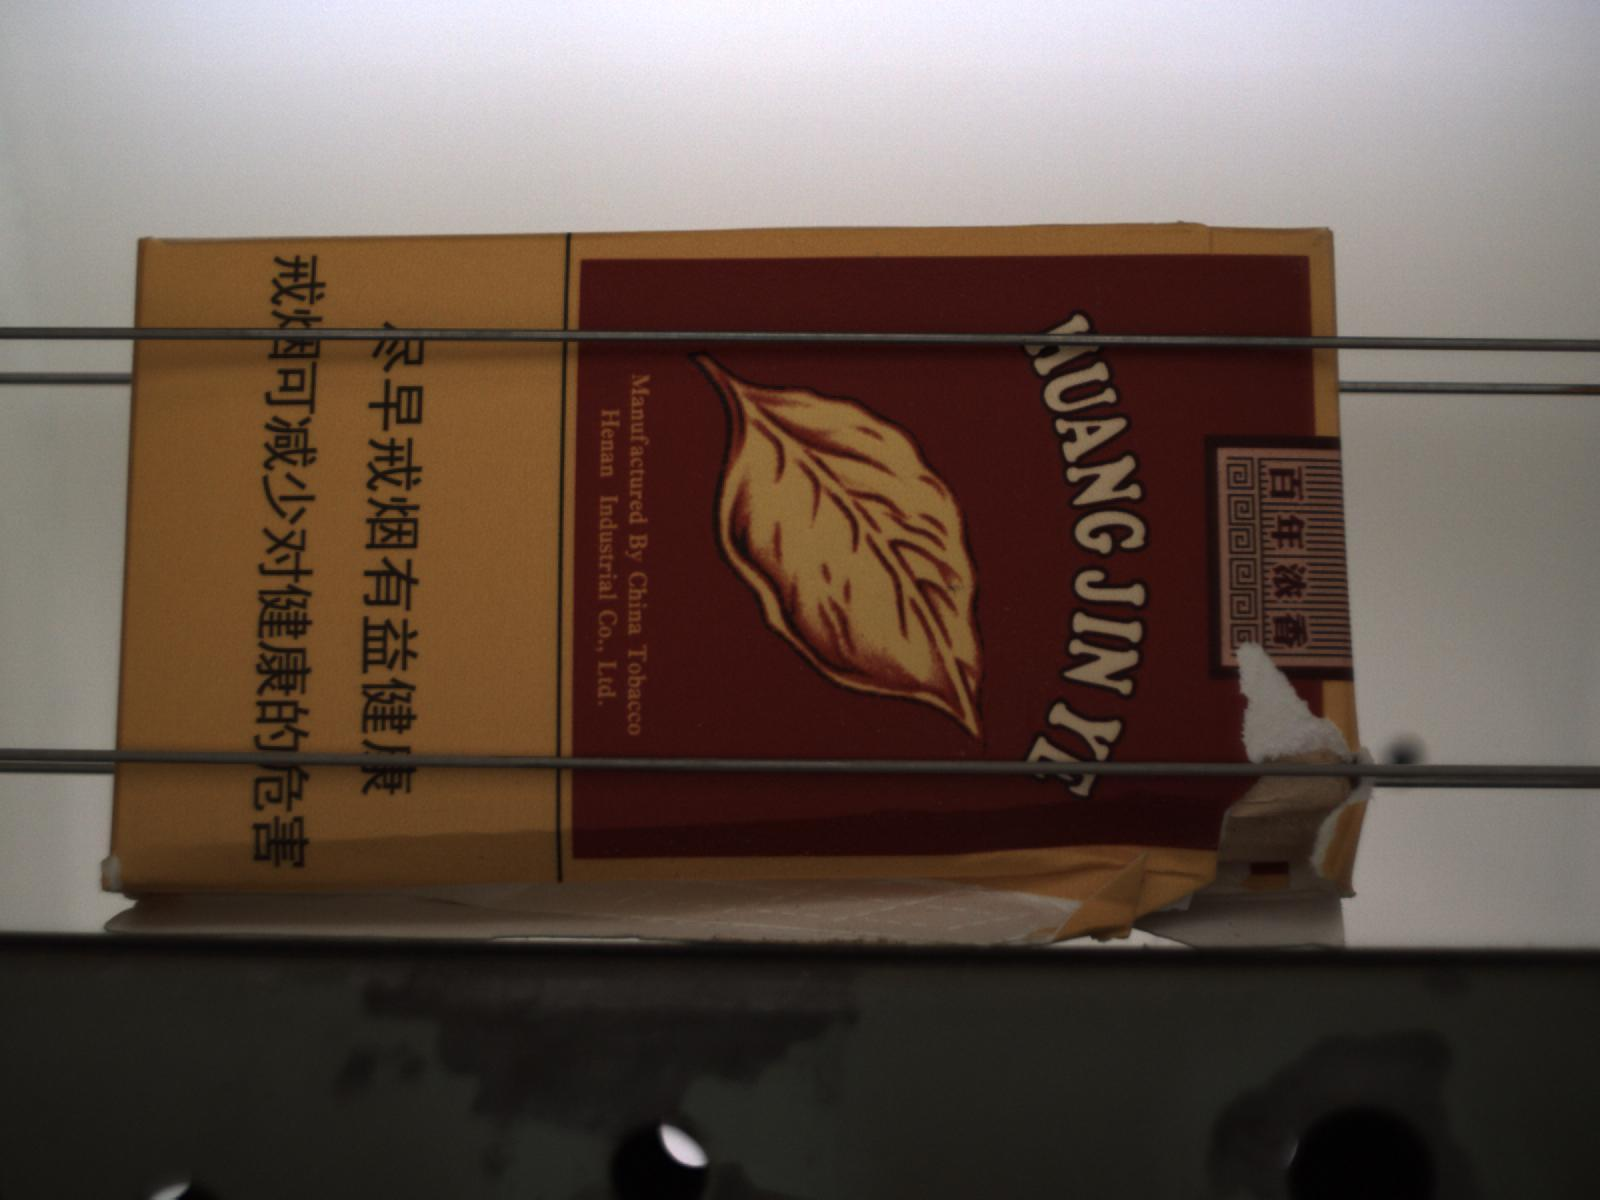boxDamage_back_heavy: (100, 780, 1381, 945)
frame: (1226, 637, 1373, 789)
